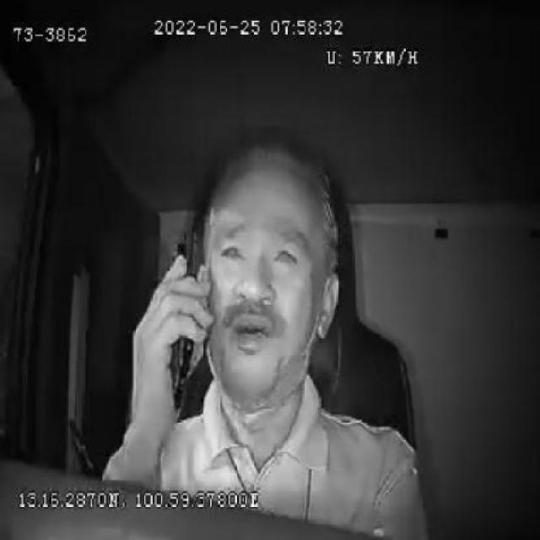phone: (162, 239, 200, 421)
